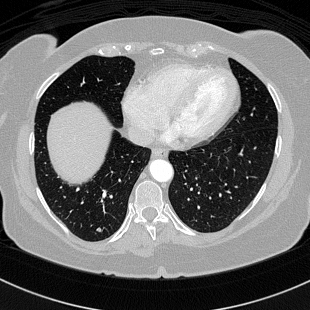nodule: (96, 227, 100, 231)
